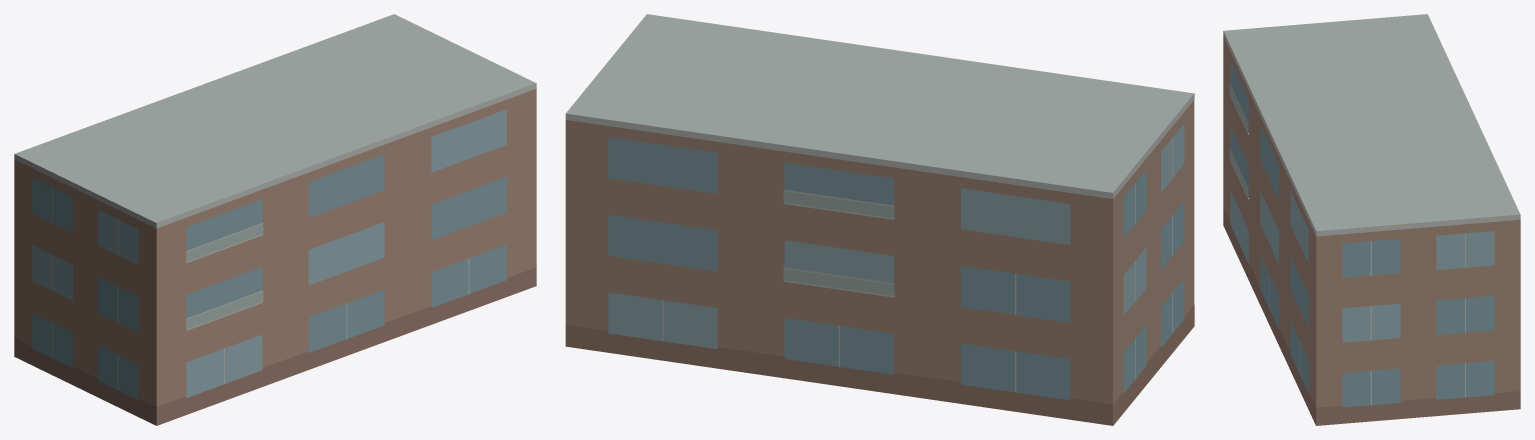
The model's file is survey-upis-32713528.glb.
3 renders of one model, left to right at view 1: azimuth 30°, elevation 25°; view 2: azimuth 150°, elevation 25°; view 3: azimuth 270°, elevation 25°, orthographic. The views are drawn at different scales.
Visible parts, largest first — view 1: survey-upis-32713528.tmp; view 2: survey-upis-32713528.tmp; view 3: survey-upis-32713528.tmp.
Boxes of the visible parts, left/top/right/bottom form: survey-upis-32713528.tmp: left=14, top=14, right=536, bottom=425; survey-upis-32713528.tmp: left=565, top=14, right=1194, bottom=425; survey-upis-32713528.tmp: left=1223, top=14, right=1520, bottom=425.
Size of the model in its own units: 21.92 by 9.15 by 12.68.
